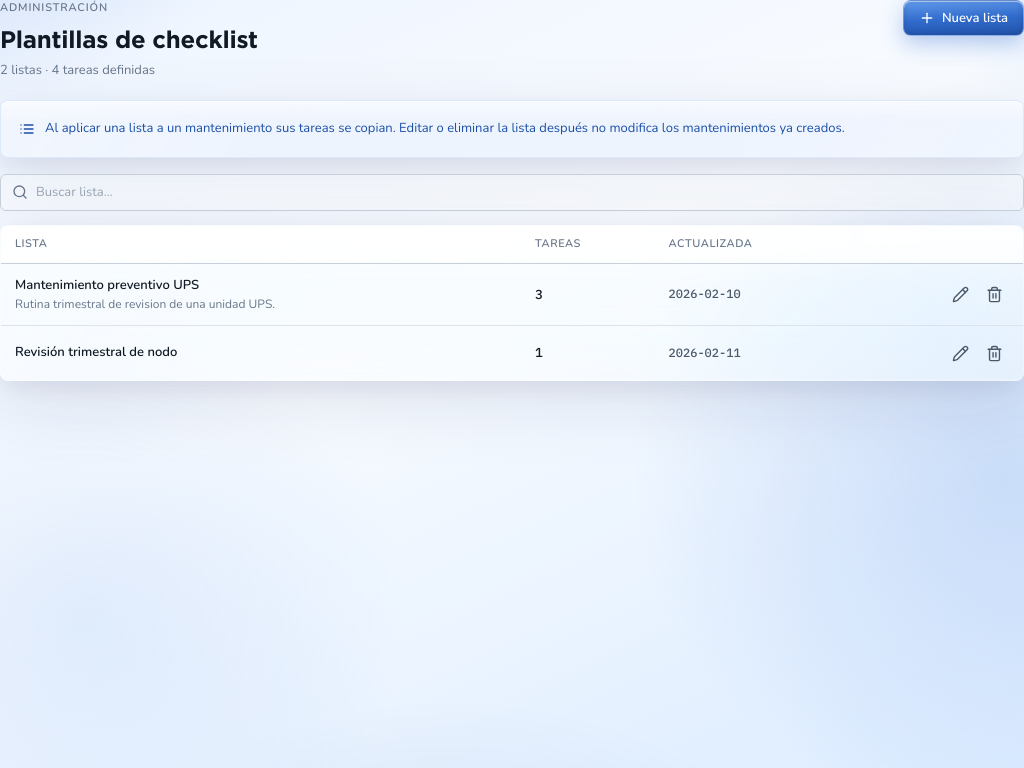
Test: ChecklistTemplates › eliminacion › muestra el error del backend sin cerrar el dialogo
This screenshot has width=1024, height=768.
Expected: the text "Mantenimiento preventivo UPS" is shown, [15,276,199,294]
Click the button titled "Eliminar" in the row of "Mantenimiento preventivo UPS".
click(994, 294)  # box [979,279,1009,309]
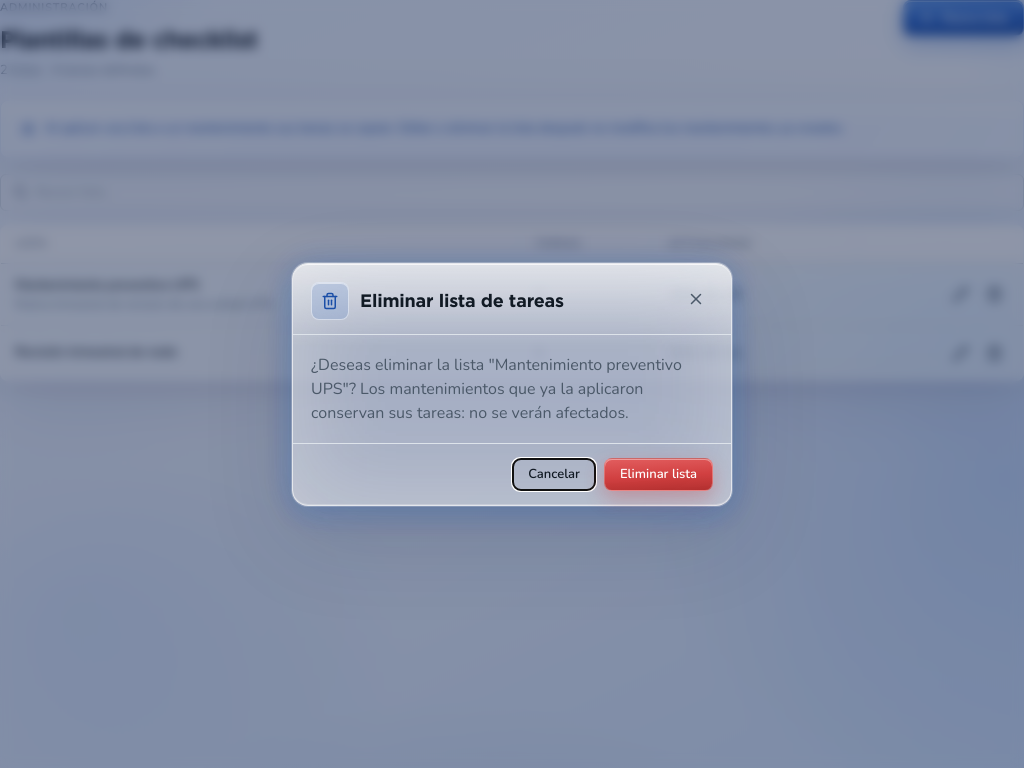
Click the button "Eliminar lista".
click(658, 474)  # box [604,458,713,490]
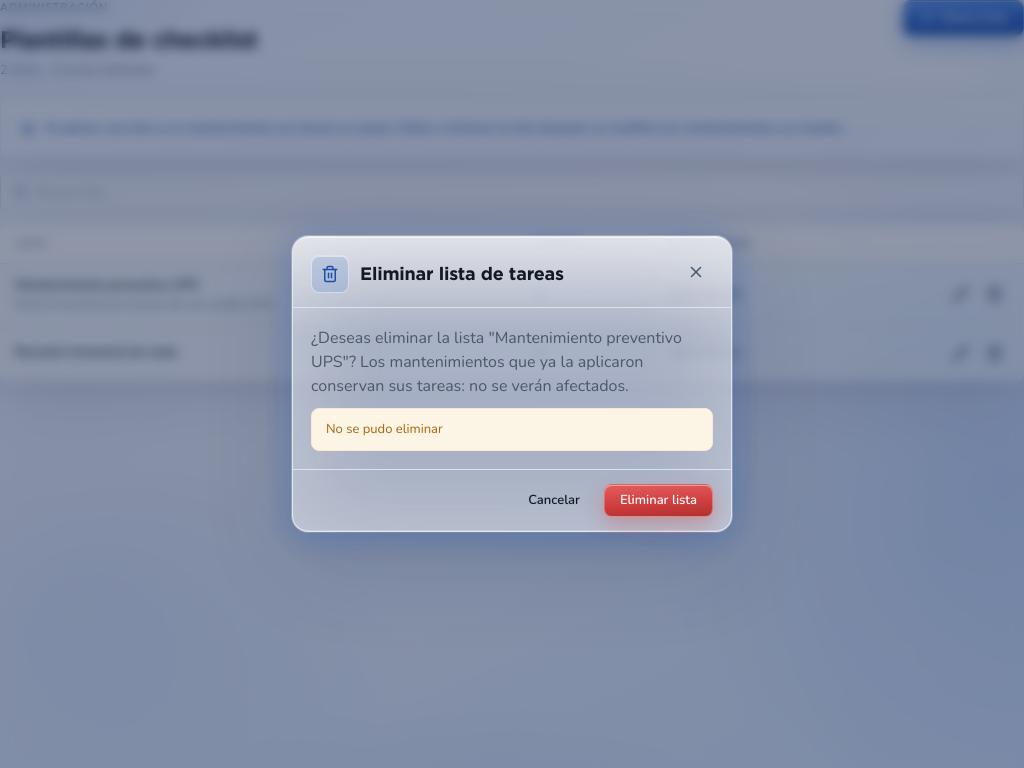
Expected: the text "No se pudo eliminar" is shown, [326,420,443,439]
